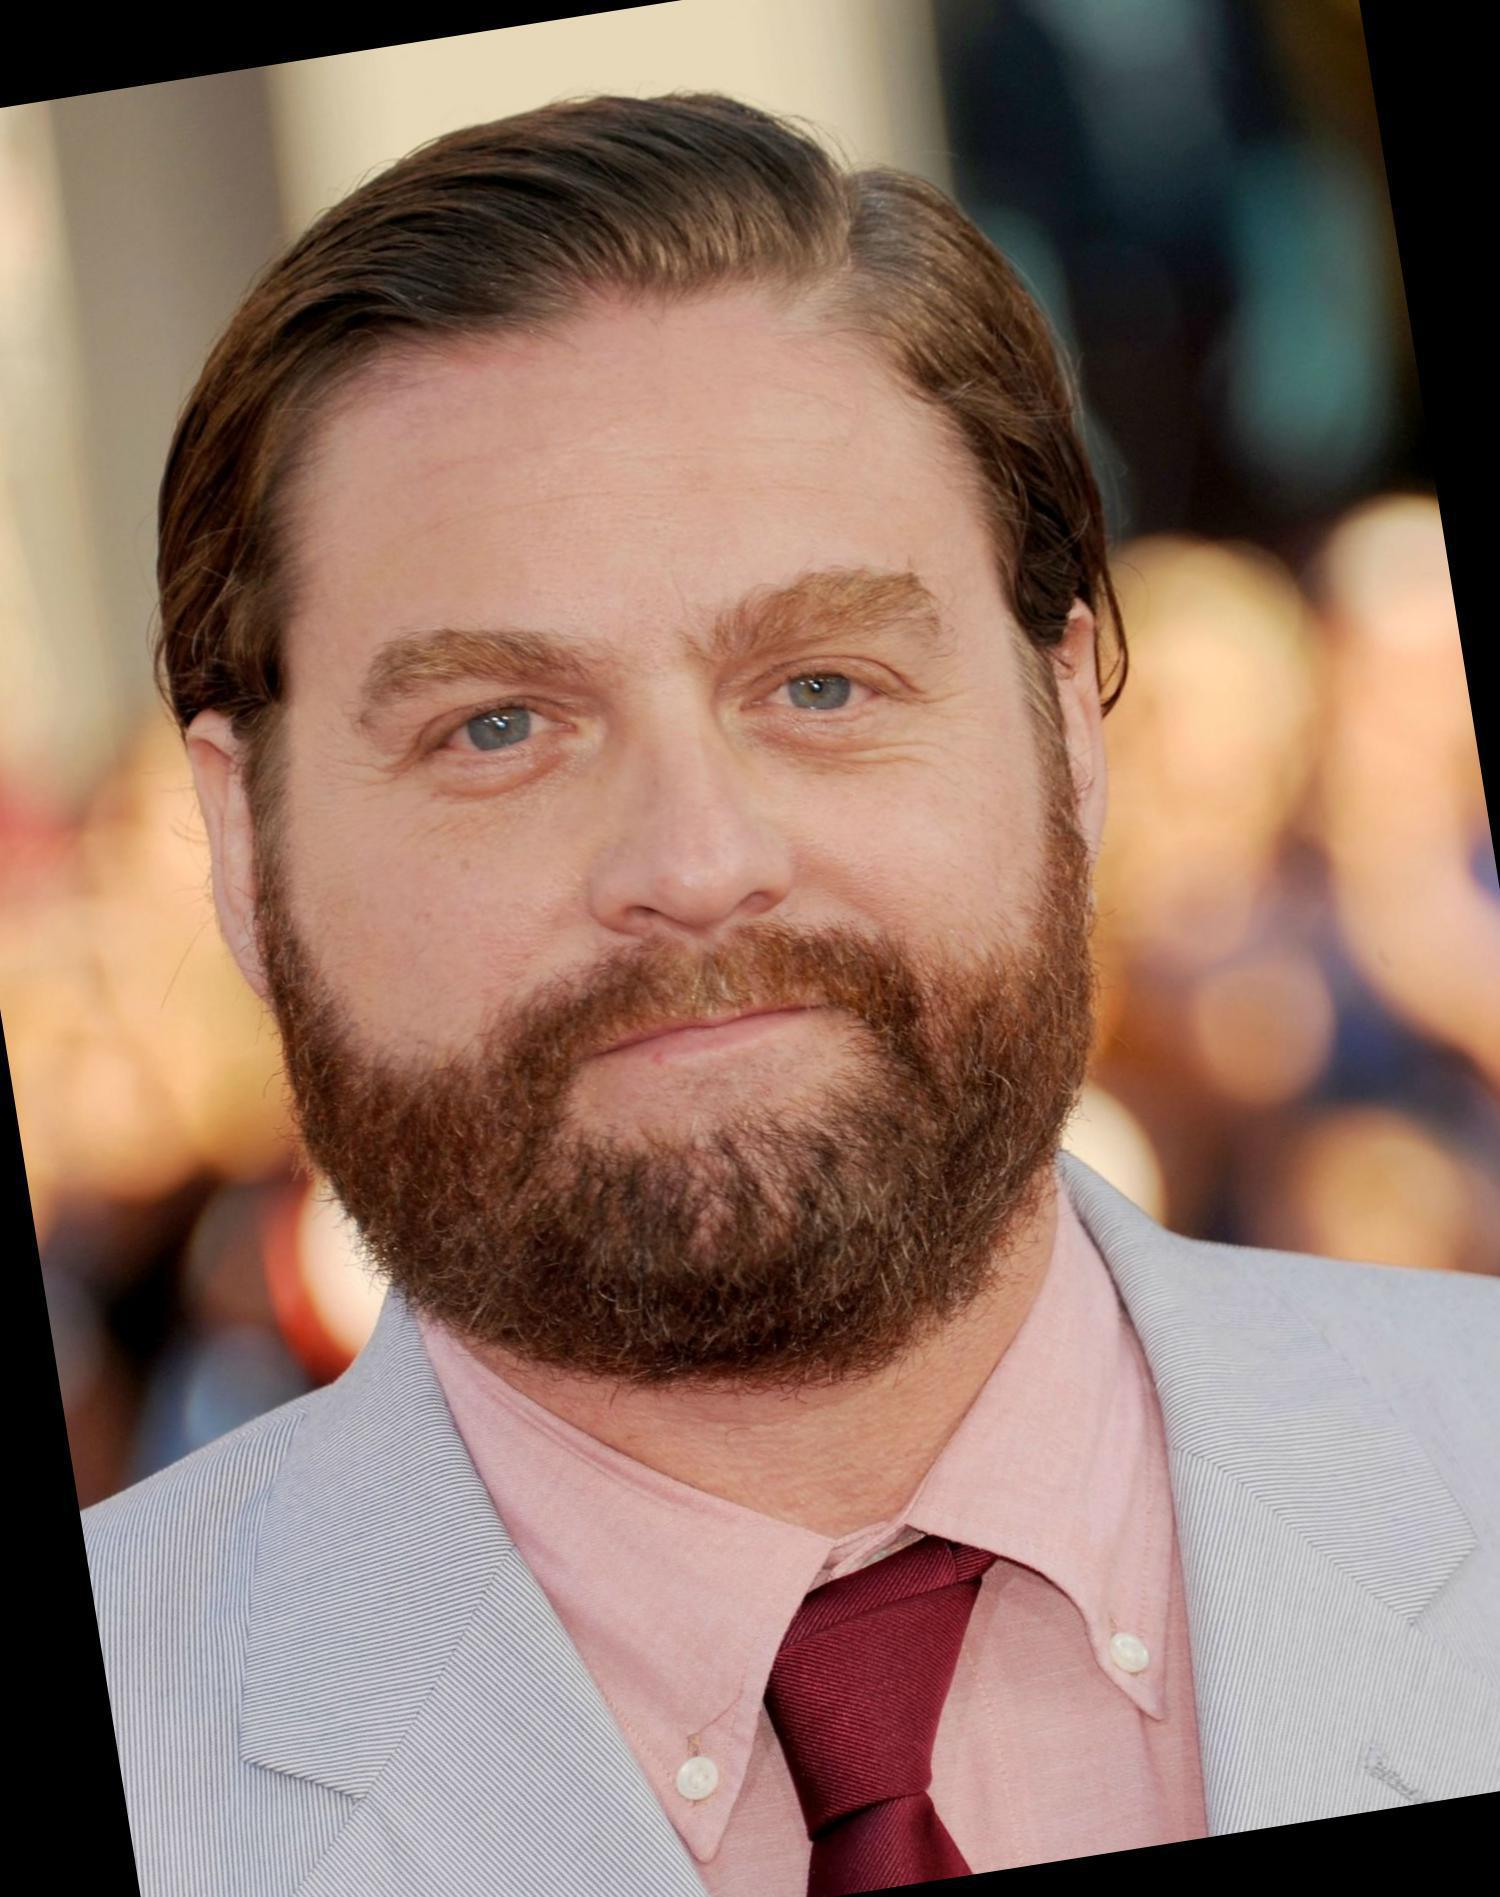Sober: (302, 371, 1067, 1255)
